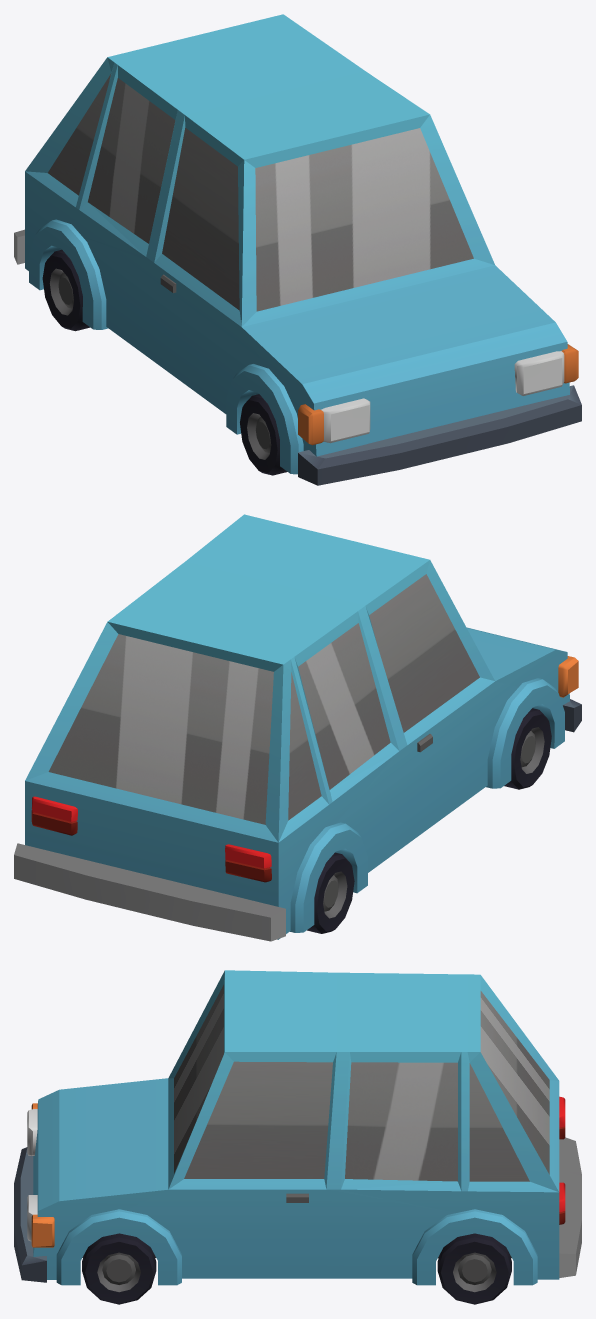
Rendered from Car_1_17.glb.
3 views of the same model, one above another, from view 1: azimuth 30°, elevation 25°; view 2: azimuth 150°, elevation 25°; view 3: azimuth 270°, elevation 25° (orthographic). The views are drawn at different scales.
Parts seen in each view (by area): view 1: Car_1_17, Wheel_Br, Wheel_Fr; view 2: Car_1_17, Wheel_Fr, Wheel_Br; view 3: Car_1_17, Wheel_Fl, Wheel_Bl.
Boxes of the visible parts, <box> form: Car_1_17: <box>14,14,581,485</box>; Wheel_Br: <box>42,249,89,331</box>; Wheel_Fr: <box>240,394,287,475</box>; Car_1_17: <box>14,514,581,941</box>; Wheel_Fr: <box>504,708,551,789</box>; Wheel_Br: <box>307,852,354,933</box>; Car_1_17: <box>14,970,581,1285</box>; Wheel_Fl: <box>82,1233,156,1304</box>; Wheel_Bl: <box>437,1233,511,1304</box>.
Bounding box in the file's own units: 1.05 × 0.9433 × 2.07.
4 materials, 4 textured.
